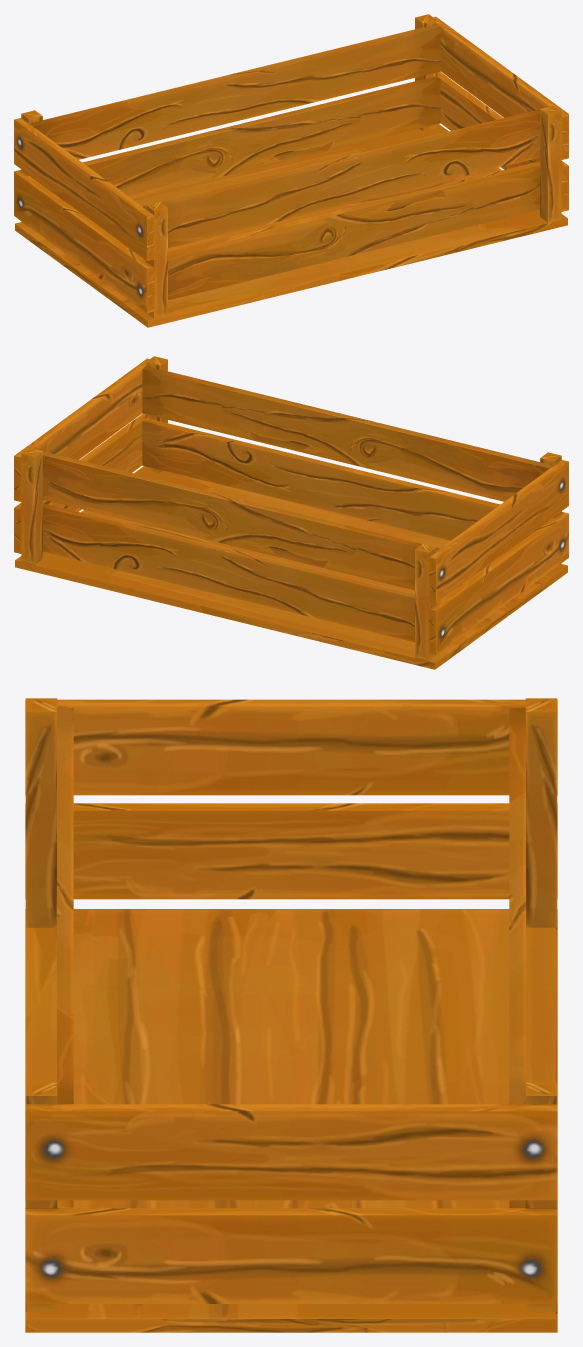
File: box_rectangular4.gltf
3 renders of one model, top to bottom at view 1: azimuth 30°, elevation 25°; view 2: azimuth 150°, elevation 25°; view 3: azimuth 270°, elevation 25°, orthographic. The views are drawn at different scales.
Visible parts, largest first — view 1: fruis_and_vegetables.016; view 2: fruis_and_vegetables.016; view 3: fruis_and_vegetables.016.
Part boxes in pixels (bbox=[...]): fruis_and_vegetables.016: bbox=[14, 14, 568, 327]; fruis_and_vegetables.016: bbox=[14, 356, 568, 669]; fruis_and_vegetables.016: bbox=[25, 698, 557, 1332].
Size of the model in its own units: 1.23 by 0.3204 by 0.6697.
Materials: 1 (1 with a texture image).
